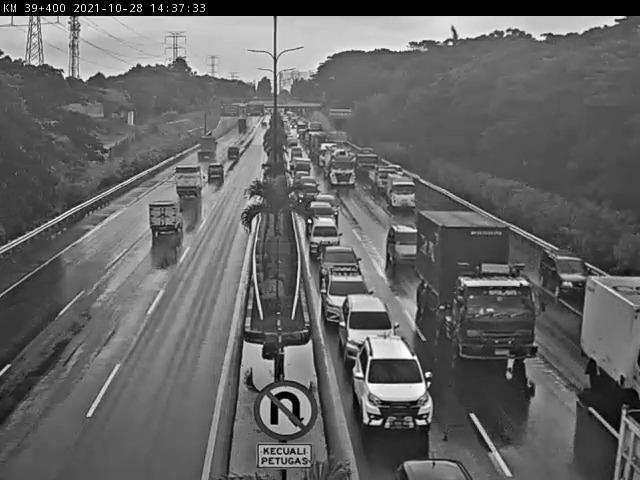big truck: (416, 211, 539, 362), (616, 406, 640, 480), (323, 147, 355, 186)
car: (353, 336, 432, 428), (341, 294, 395, 361), (539, 248, 592, 299), (323, 269, 370, 322), (388, 460, 473, 480), (320, 246, 360, 288), (385, 226, 418, 266), (150, 200, 185, 235), (308, 217, 340, 255), (307, 202, 336, 226), (298, 182, 319, 207), (316, 195, 338, 218), (208, 164, 225, 181), (227, 146, 240, 159), (300, 176, 317, 184)
small truck: (579, 277, 640, 399), (174, 166, 203, 202), (385, 174, 414, 208), (367, 165, 394, 190), (197, 137, 217, 160)
